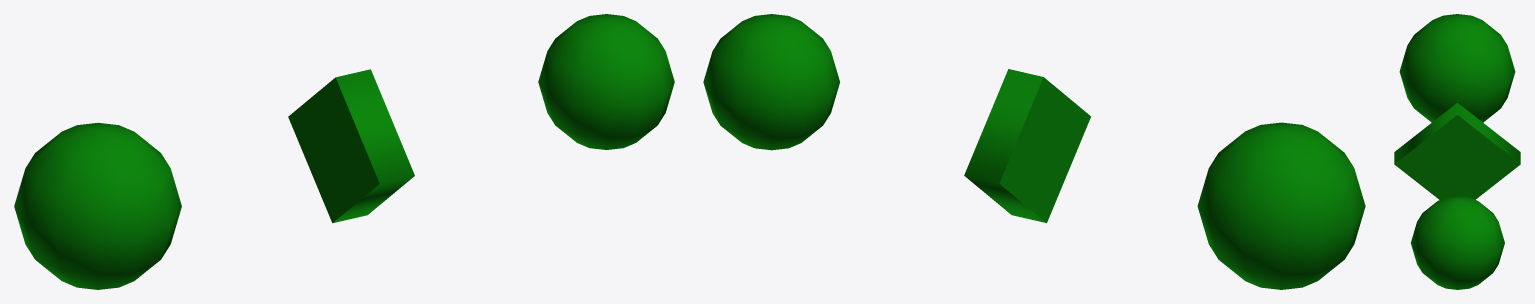
Rendered from disparo3.fbx.
3 renders of one model, left to right at view 1: azimuth 30°, elevation 25°; view 2: azimuth 150°, elevation 25°; view 3: azimuth 270°, elevation 25°, orthographic. The views are drawn at different scales.
Parts seen in each view (by area): view 1: Regroup01; view 2: Regroup01; view 3: Regroup01.
Boxes of the visible parts, x1,y1,x2,y2 form: Regroup01: [14, 14, 674, 289]; Regroup01: [703, 14, 1365, 289]; Regroup01: [1394, 14, 1520, 289].
Size of the model in its own units: 18.95 by 4.3 by 4.7.
